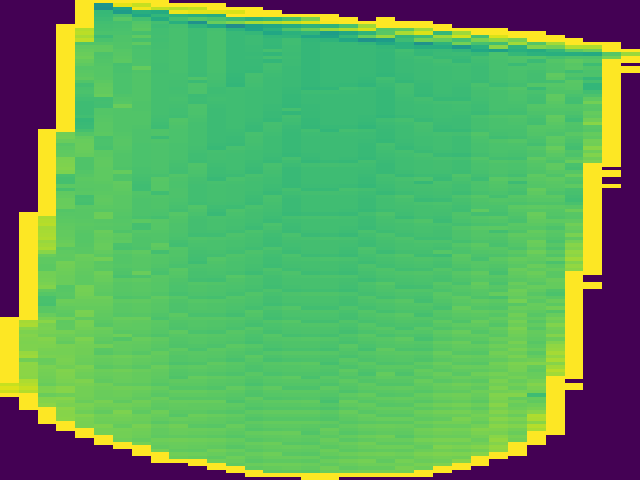cylinder: (1, 2, 620, 480)
